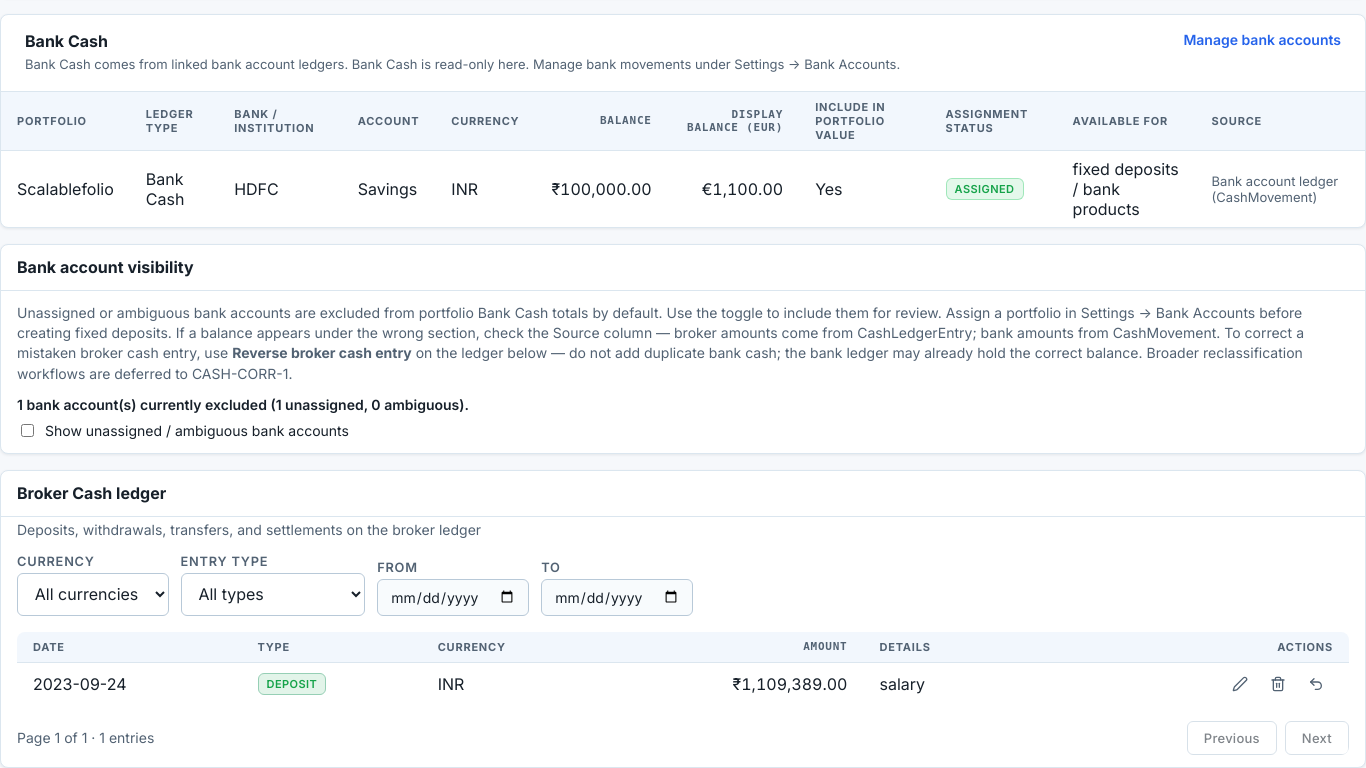
Scenario: Cash page › shows reverse action for reversible manual deposit and refreshes overview
(page scrolled)
Click the button named "Reverse Deposit".
click(1316, 684)  # box top-left (1299, 671), bottom-right (1333, 697)
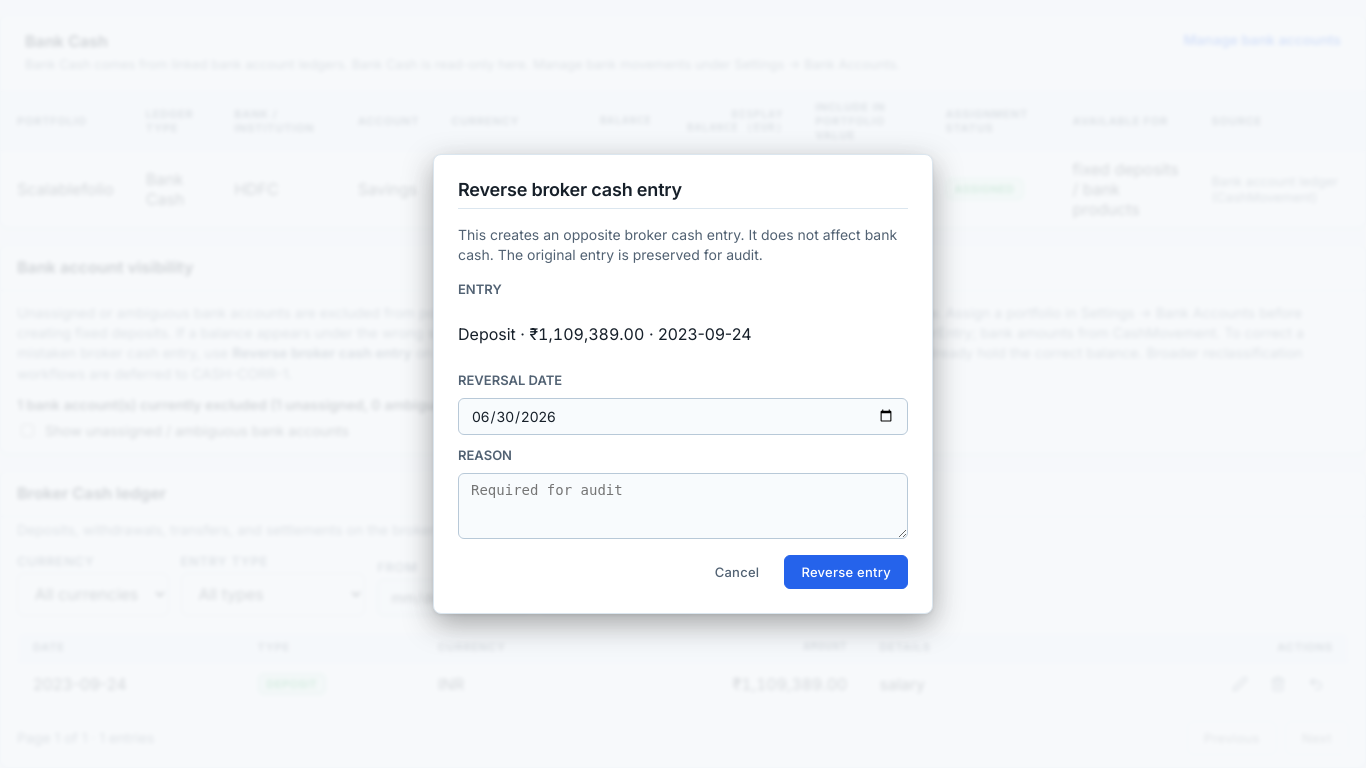
Check: the text "does not affect bank cash" is shown, box top-left (458, 226), bottom-right (897, 263)
Type "Recorded in broker ledger by mistake" into the text box labelled "Reason".
click(683, 506); type("Recorded in broker ledger by mistake")  # box top-left (458, 473), bottom-right (908, 539)
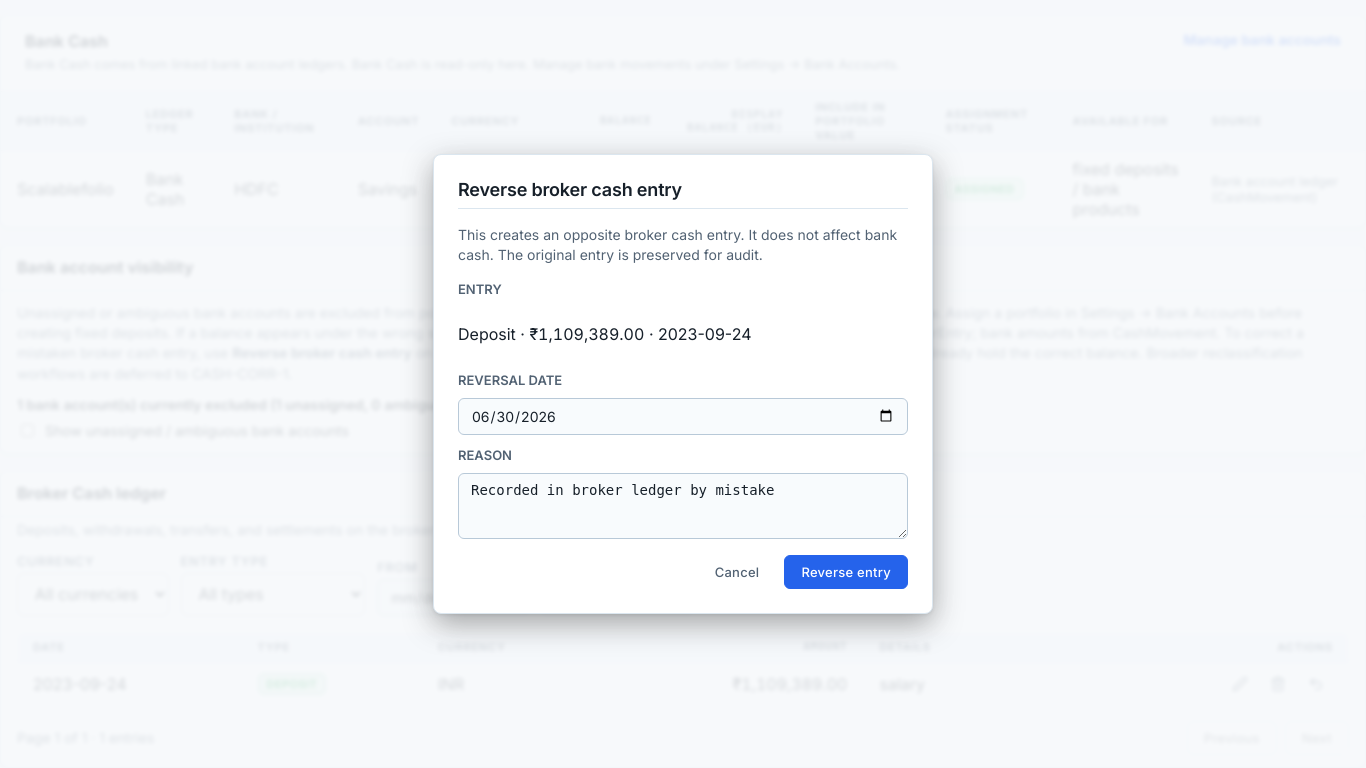
Click the button "Reverse entry".
click(846, 572)  # box top-left (784, 555), bottom-right (908, 589)
(page scrolled)
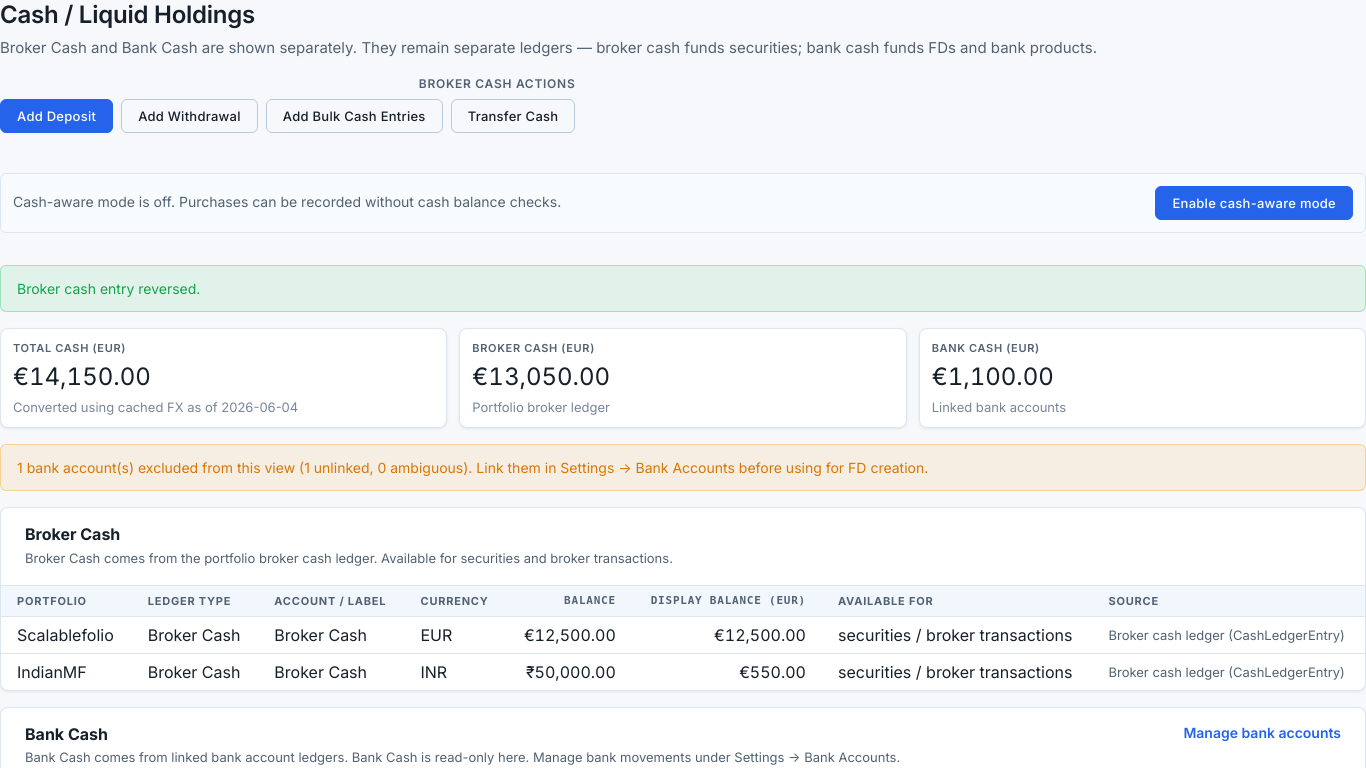
Check: the text "Broker cash entry reversed." is shown, box top-left (17, 278), bottom-right (200, 298)
